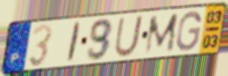3: (27, 22, 56, 68)
9: (85, 17, 115, 62)
G: (174, 10, 203, 52)
I: (65, 20, 83, 64)
M: (142, 11, 180, 57)
U: (113, 14, 145, 59)
